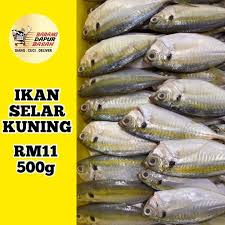Ikan Selar: (148, 74, 225, 118), (145, 136, 225, 175), (141, 186, 225, 222), (145, 32, 225, 68), (79, 1, 143, 40), (76, 40, 143, 77), (75, 119, 143, 155), (76, 151, 149, 184), (144, 3, 225, 29), (78, 94, 150, 123)
